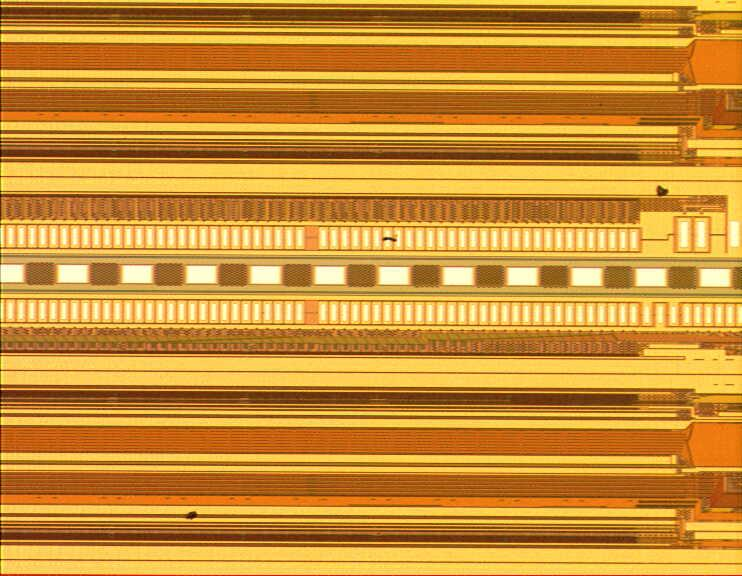PIQ PARTICLE: (298, 178, 681, 355), (177, 477, 209, 535)
